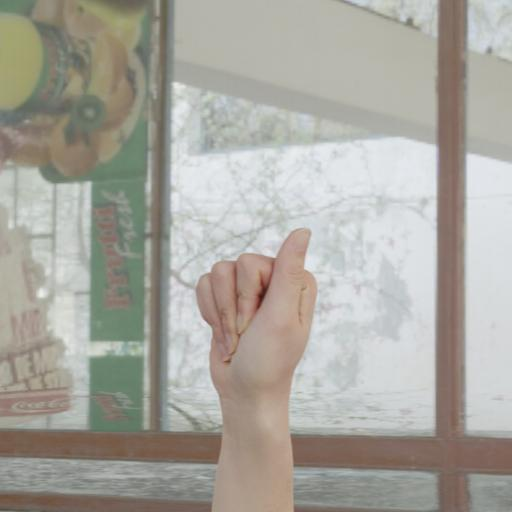A: (174, 219, 352, 409)
